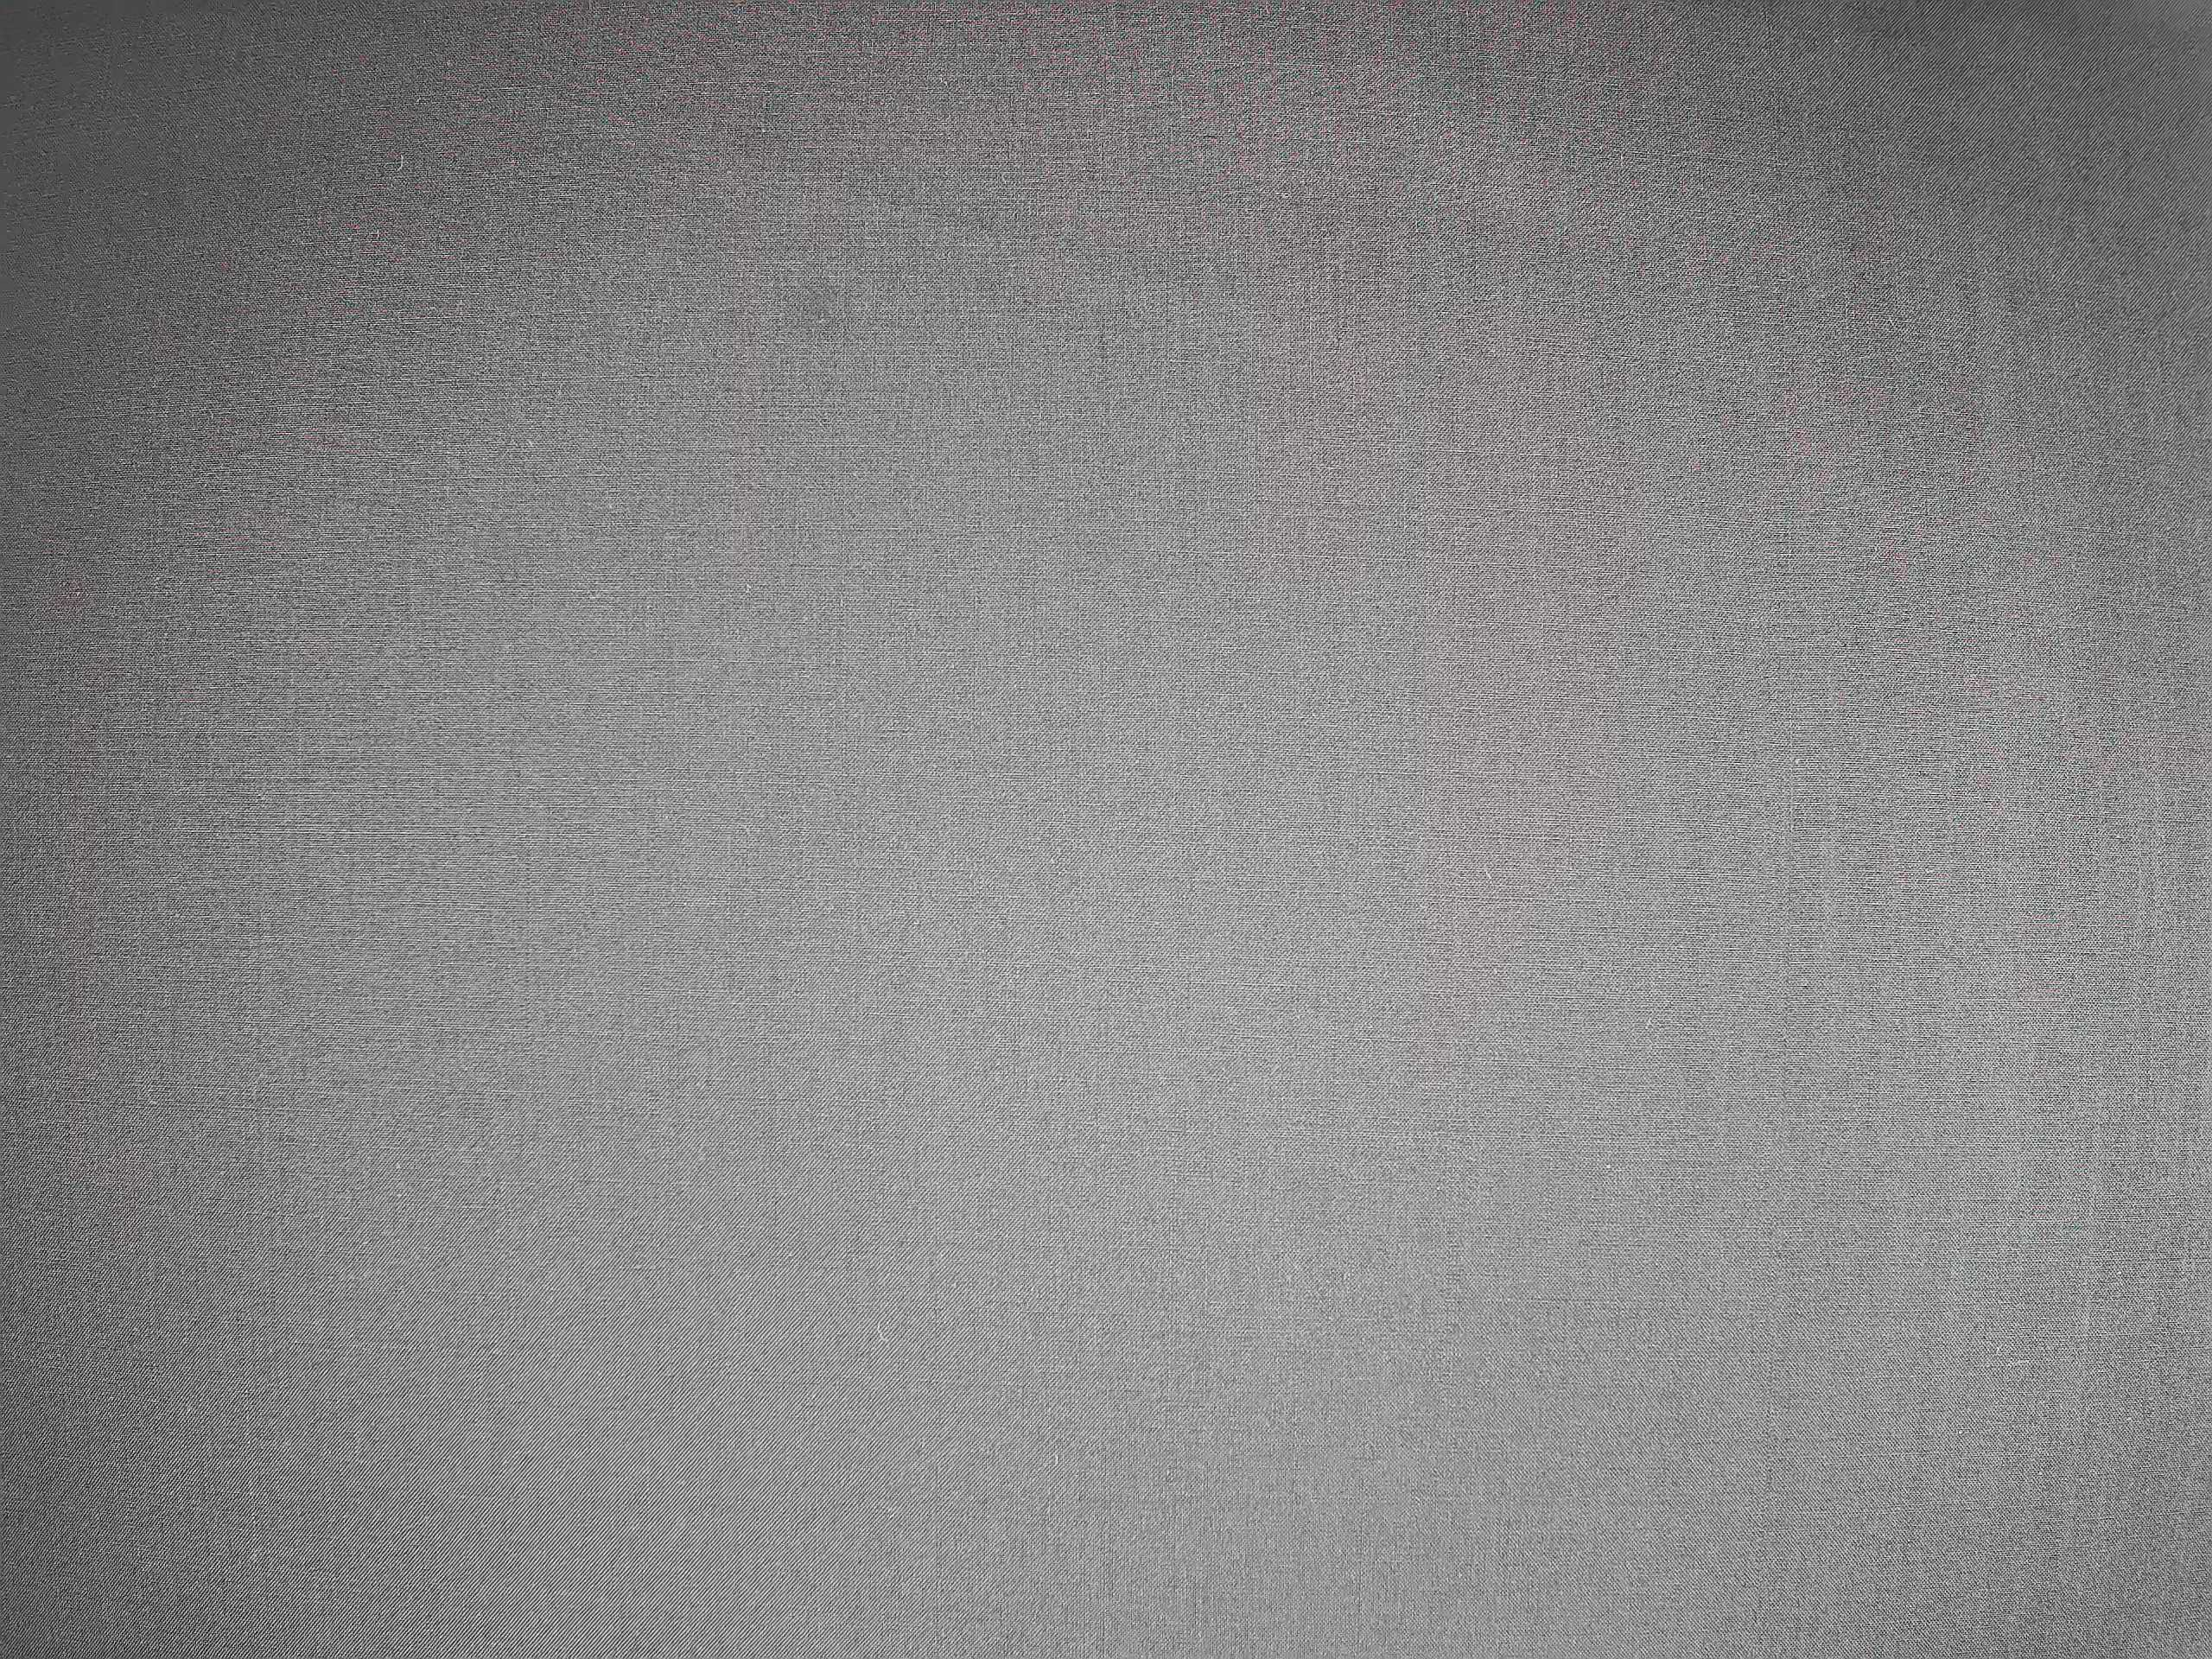hanging-warp: (1773, 681, 1803, 1122), (1747, 1328, 1785, 1619)
knots: (786, 281, 855, 343)
